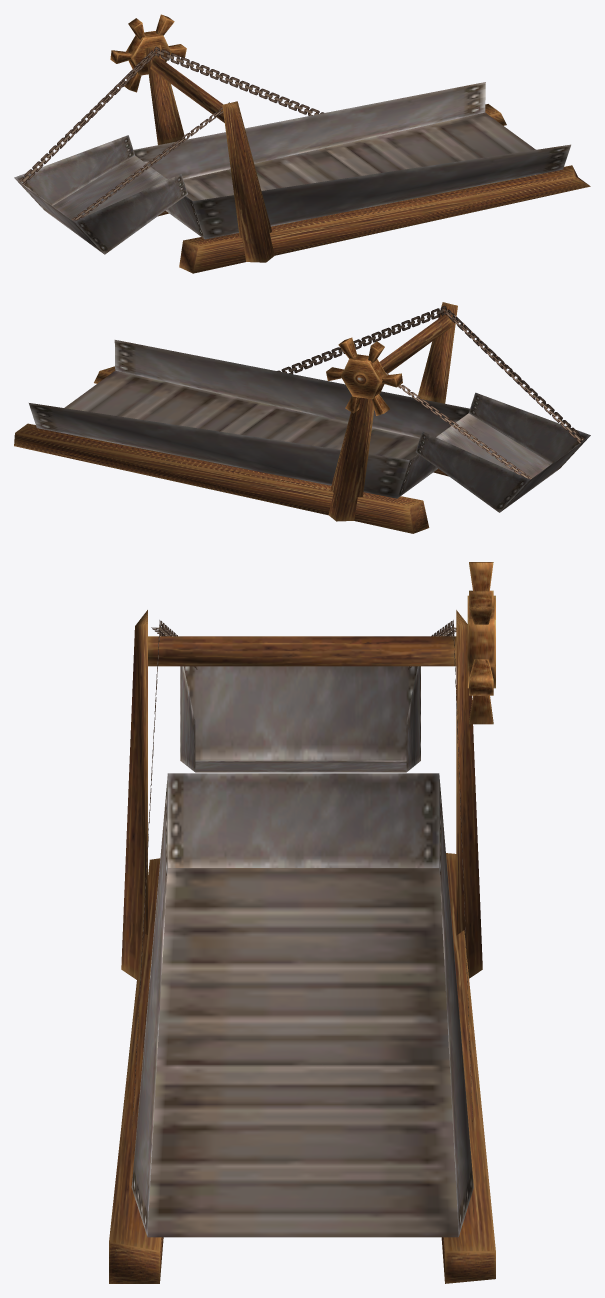
Rendered from cavekobolddredge.obj.
The picture shows the model from 3 angles, top to bottom: view 1: azimuth 30°, elevation 25°; view 2: azimuth 150°, elevation 25°; view 3: azimuth 270°, elevation 25°; orthographic projection. The views are drawn at different scales.
Parts seen in each view (by area): view 1: Geoset0, Geoset1, Geoset2, Geoset3; view 2: Geoset0, Geoset1, Geoset2, Geoset3; view 3: Geoset0, Geoset1, Geoset3, Geoset2.
Part boxes in pixels (box(x1,y1,x2,y2)): Geoset0: box(14, 82, 570, 254); Geoset1: box(145, 45, 590, 273); Geoset2: box(19, 46, 323, 220); Geoset3: box(110, 14, 186, 92); Geoset0: box(29, 340, 590, 512); Geoset1: box(14, 302, 457, 533); Geoset2: box(277, 305, 584, 478); Geoset3: box(326, 337, 402, 415); Geoset0: box(131, 666, 473, 1237); Geoset1: box(109, 610, 495, 1283); Geoset3: box(467, 562, 495, 724); Geoset2: box(132, 620, 472, 1125).
Size of the model in its own units: 7.03 by 2.5 by 2.36.
4 materials, 4 textured.
